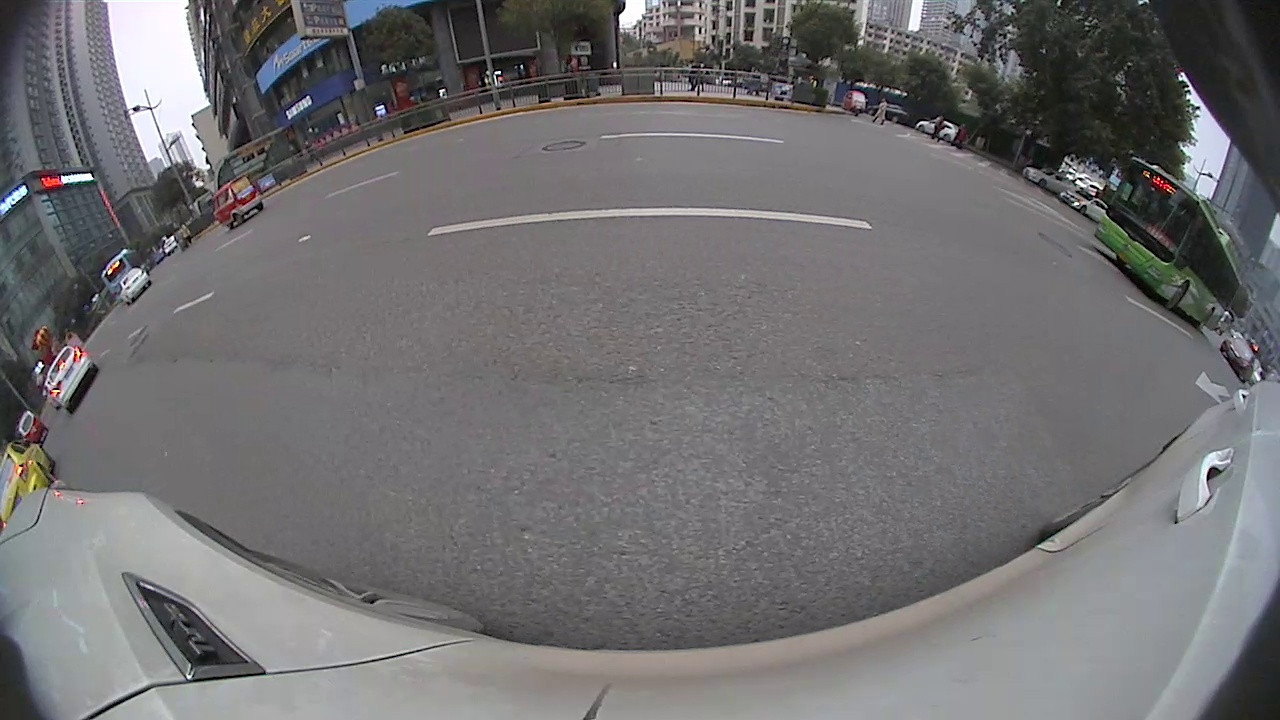bus: (1096, 155, 1243, 331), (102, 247, 151, 298)
car: (0, 441, 54, 529), (43, 344, 99, 415), (1218, 334, 1259, 381), (1023, 167, 1078, 196), (1059, 189, 1113, 218), (118, 268, 154, 303)
front: (1166, 275, 1193, 314), (1036, 177, 1051, 192), (1076, 203, 1092, 215)
rear: (232, 209, 245, 228)
rider: (210, 173, 264, 228)
